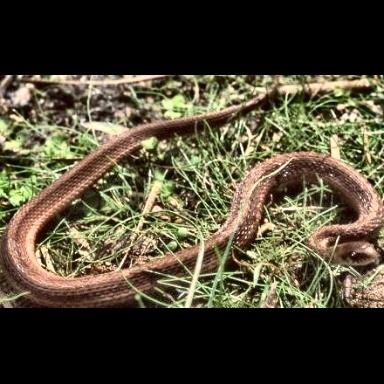snake: (0, 121, 384, 308)
